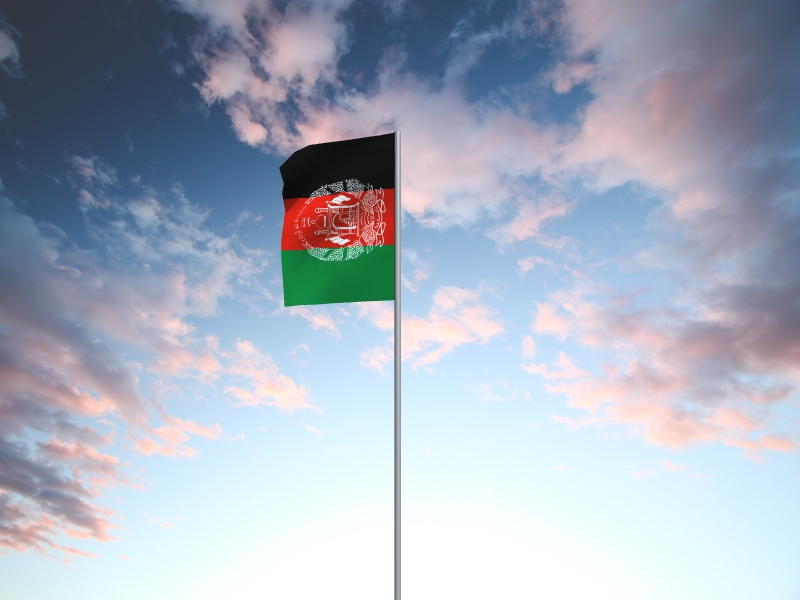af: (279, 133, 396, 309)
